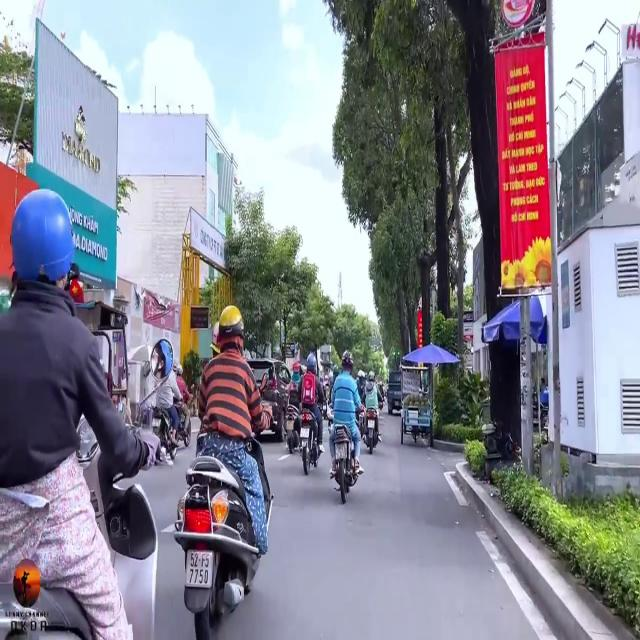bien_trang: (187, 544, 213, 586)
